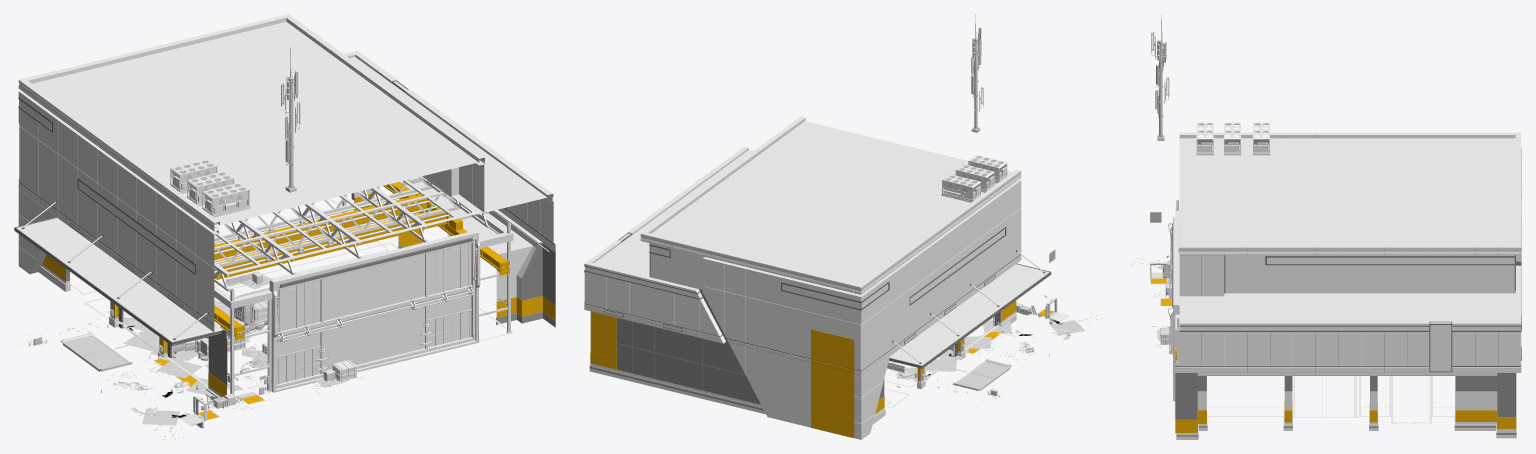
The model's file is cell_172_115.fbx.
3 views of the same model, side by side, from view 1: azimuth 30°, elevation 25°; view 2: azimuth 150°, elevation 25°; view 3: azimuth 270°, elevation 25° (orthographic). The views are drawn at different scales.
Parts seen in each view (by area): view 1: SM_H_Building_FutureTech_TransferStation_ExterWall_01.mo, SM_H_Customiz_AssemblyAreaDoor_01_F.mo, SM_H_Building_FutureTech_TransferStation_InterWall_01B.mo, SM_H_Building_FutureTech_TransferStation_InterWall_01E.mo, SM_H_Building_FutureTech_TransferStation_InterWall_01C.mo, SM_RoadFacility_Road_AsphaltRoad_512_01.mo.031, SM_H_FutureTech_Furniture_BaseStation_01.mo.019, SM_H_FutureTech_Electrical_BigConditioners_01.mo.043, SM_I_RoadFacility_Ground_B_06B.mo, SM_H_Building_FutureTech_TransferStation_InterWall_01C.mo.00, SM_H_FutureTech_Electrical_BigConditioners_01.mo.041, SM_H_FutureTech_Electrical_BigConditioners_01.mo.042; view 2: SM_H_Building_FutureTech_TransferStation_ExterWall_01.mo, SM_RoadFacility_Road_AsphaltRoad_512_01.mo.031, SM_H_FutureTech_Electrical_BigConditioners_01.mo.041, SM_H_FutureTech_Furniture_BaseStation_01.mo.019, SM_H_FutureTech_Electrical_BigConditioners_01.mo.042, SM_H_FutureTech_Electrical_BigConditioners_01.mo.043; view 3: SM_H_Building_FutureTech_TransferStation_ExterWall_01.mo, SM_H_Customiz_AssemblyAreaDoor_01_F.mo, SM_I_RoadFacility_Ground_B_06B.mo, SM_H_FutureTech_Furniture_BaseStation_01.mo.019, SM_H_FutureTech_Electrical_BigConditioners_01.mo.041, SM_H_FutureTech_Electrical_BigConditioners_01.mo.042, SM_H_FutureTech_Electrical_BigConditioners_01.mo.043.
Part boxes in pixels (x1,y1,x2,y2): SM_H_Building_FutureTech_TransferStation_ExterWall_01.mo: (14, 14, 555, 408); SM_H_Customiz_AssemblyAreaDoor_01_F.mo: (269, 230, 480, 392); SM_H_Building_FutureTech_TransferStation_InterWall_01B.mo: (70, 176, 513, 394); SM_H_Building_FutureTech_TransferStation_InterWall_01E.mo: (214, 182, 509, 340); SM_H_Building_FutureTech_TransferStation_InterWall_01C.mo: (214, 194, 460, 268); SM_RoadFacility_Road_AsphaltRoad_512_01.mo.031: (61, 332, 132, 371); SM_H_FutureTech_Furniture_BaseStation_01.mo.019: (281, 47, 300, 192); SM_H_FutureTech_Electrical_BigConditioners_01.mo.043: (202, 182, 250, 217); SM_I_RoadFacility_Ground_B_06B.mo: (70, 198, 513, 400); SM_H_Building_FutureTech_TransferStation_InterWall_01C.mo.00: (214, 176, 432, 241); SM_H_FutureTech_Electrical_BigConditioners_01.mo.041: (170, 159, 217, 193); SM_H_FutureTech_Electrical_BigConditioners_01.mo.042: (187, 171, 234, 205); SM_H_Building_FutureTech_TransferStation_ExterWall_01.mo: (584, 116, 1051, 439); SM_RoadFacility_Road_AsphaltRoad_512_01.mo.031: (953, 359, 1011, 390); SM_H_FutureTech_Electrical_BigConditioners_01.mo.041: (941, 174, 980, 202); SM_H_FutureTech_Furniture_BaseStation_01.mo.019: (971, 14, 983, 132); SM_H_FutureTech_Electrical_BigConditioners_01.mo.042: (955, 164, 994, 192); SM_H_FutureTech_Electrical_BigConditioners_01.mo.043: (968, 155, 1007, 183); SM_H_Building_FutureTech_TransferStation_ExterWall_01.mo: (1175, 132, 1521, 439); SM_H_Customiz_AssemblyAreaDoor_01_F.mo: (1168, 217, 1179, 401); SM_I_RoadFacility_Ground_B_06B.mo: (1174, 376, 1454, 423); SM_H_FutureTech_Furniture_BaseStation_01.mo.019: (1151, 14, 1169, 140); SM_H_FutureTech_Electrical_BigConditioners_01.mo.041: (1252, 122, 1270, 155); SM_H_FutureTech_Electrical_BigConditioners_01.mo.042: (1223, 122, 1241, 155); SM_H_FutureTech_Electrical_BigConditioners_01.mo.043: (1196, 122, 1213, 155).
Bounding box in the file's own units: 71.74 × 56.63 × 64.39.
